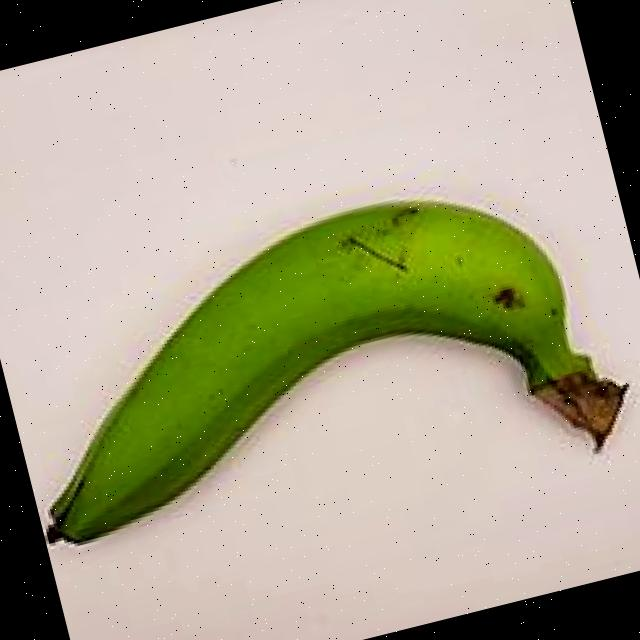Raw: (0, 132, 640, 626)
